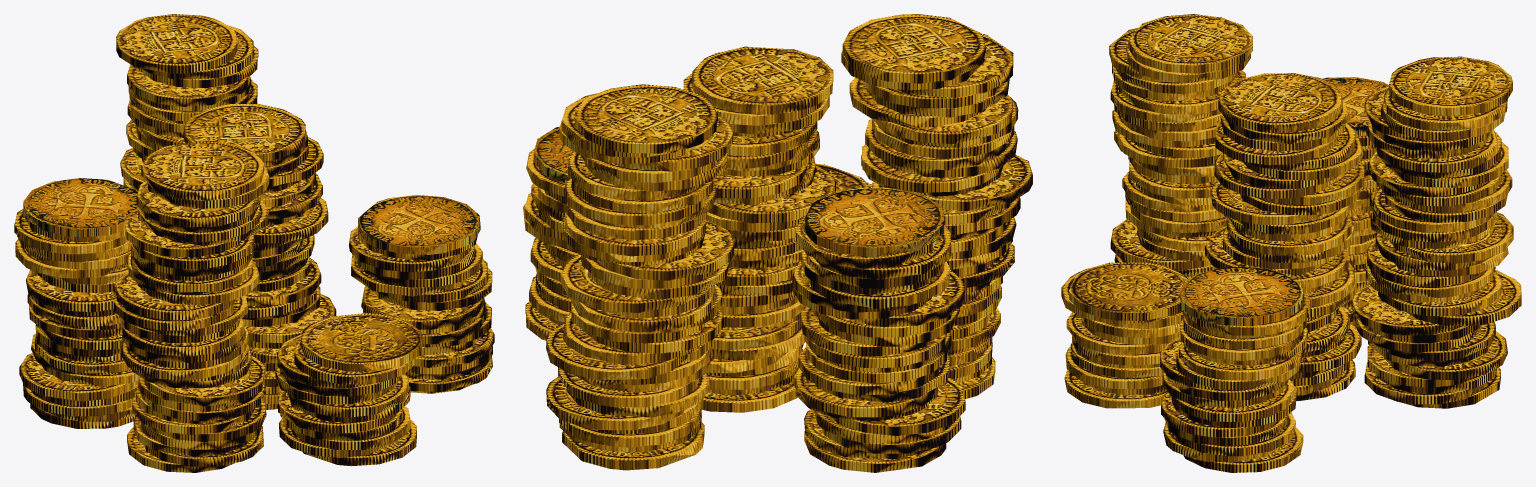
Rendered from Gold coins.FBX.
3 renders of one model, left to right at view 1: azimuth 30°, elevation 25°; view 2: azimuth 150°, elevation 25°; view 3: azimuth 270°, elevation 25°, orthographic. The views are drawn at different scales.
Parts seen in each view (by area): view 1: Gold coins; view 2: Gold coins; view 3: Gold coins.
Boxes of the visible parts, box(x1,y1,x2,y2) form: Gold coins: box(14, 14, 494, 472); Gold coins: box(523, 14, 1032, 472); Gold coins: box(1061, 14, 1521, 472).
Bounding box in the file's own units: 45.18 × 30.34 × 43.23.
Materials: 1 (1 with a texture image).
